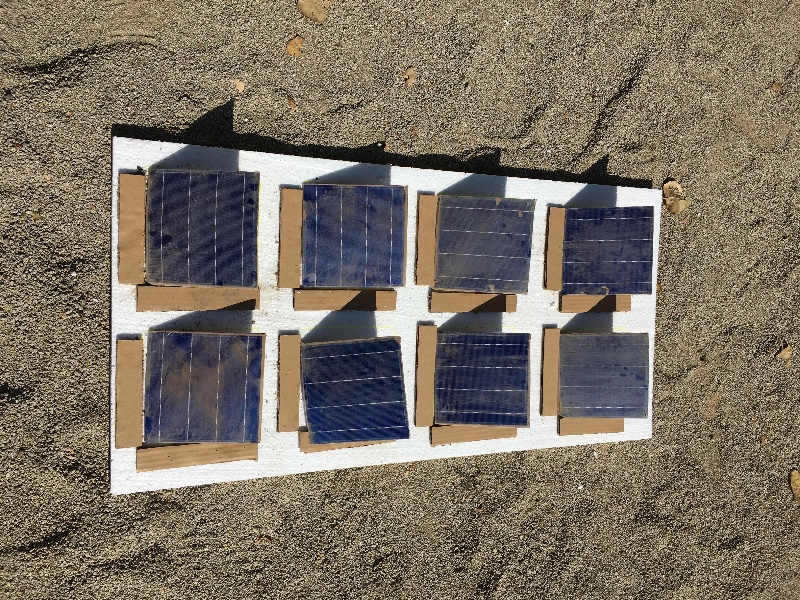clean: (298, 343, 413, 443)
dirty: (142, 329, 259, 444), (436, 191, 533, 292), (562, 335, 649, 417)
semi: (145, 168, 254, 289), (306, 186, 401, 286), (437, 333, 532, 426), (565, 207, 654, 297)
